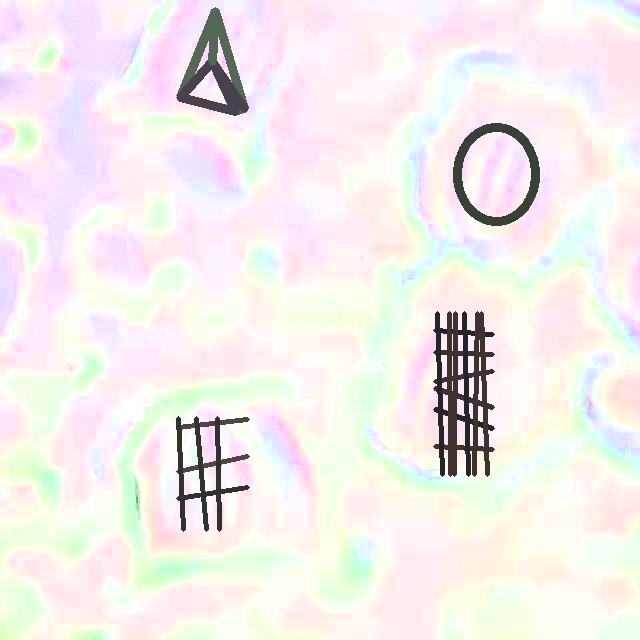close: (433, 311, 494, 476), (452, 122, 541, 225), (176, 416, 249, 531), (176, 7, 248, 115)
